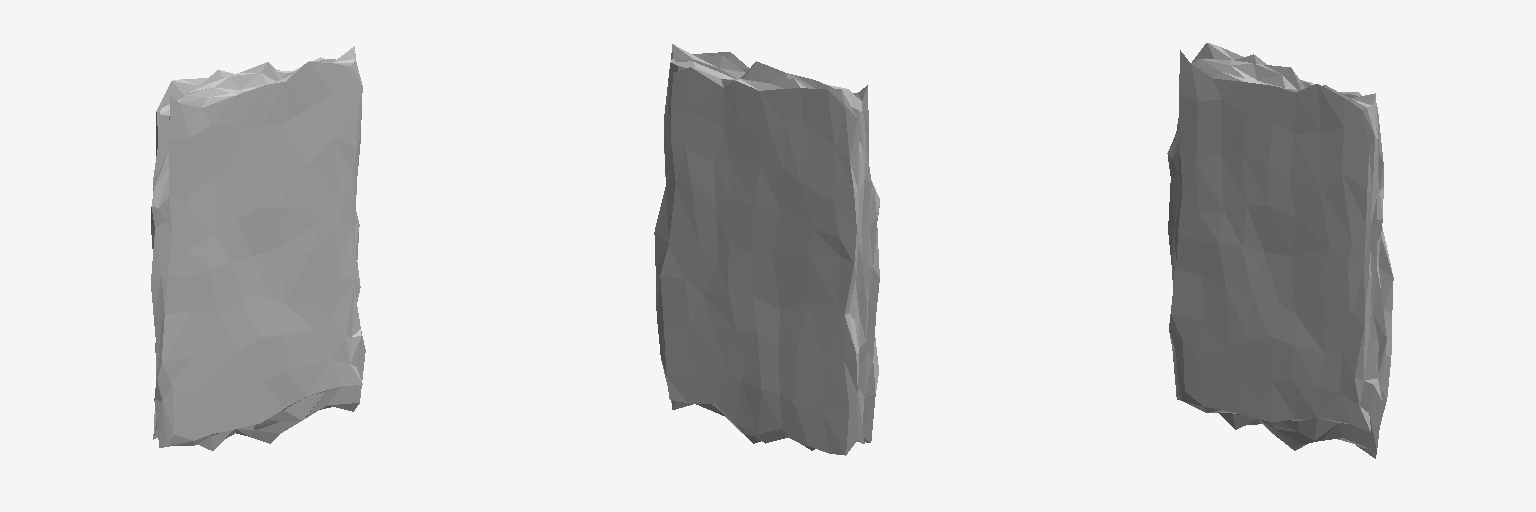
Rendered from portal.obj.
The picture shows the model from 3 angles: view 1: azimuth 30°, elevation 25°; view 2: azimuth 150°, elevation 25°; view 3: azimuth 330°, elevation 25°; orthographic projection.
Parts seen in each view (by area): view 1: Cube_Cube.001; view 2: Cube_Cube.001; view 3: Cube_Cube.001.
Part boxes in pixels (left/top/right/bottom): Cube_Cube.001: left=151, top=46, right=365, bottom=450; Cube_Cube.001: left=654, top=44, right=879, bottom=455; Cube_Cube.001: left=1167, top=43, right=1393, bottom=458.
Size of the model in its own units: 51.6 by 86.99 by 6.47.